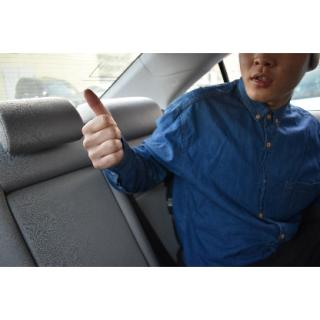ALIF: (75, 83, 125, 174)
